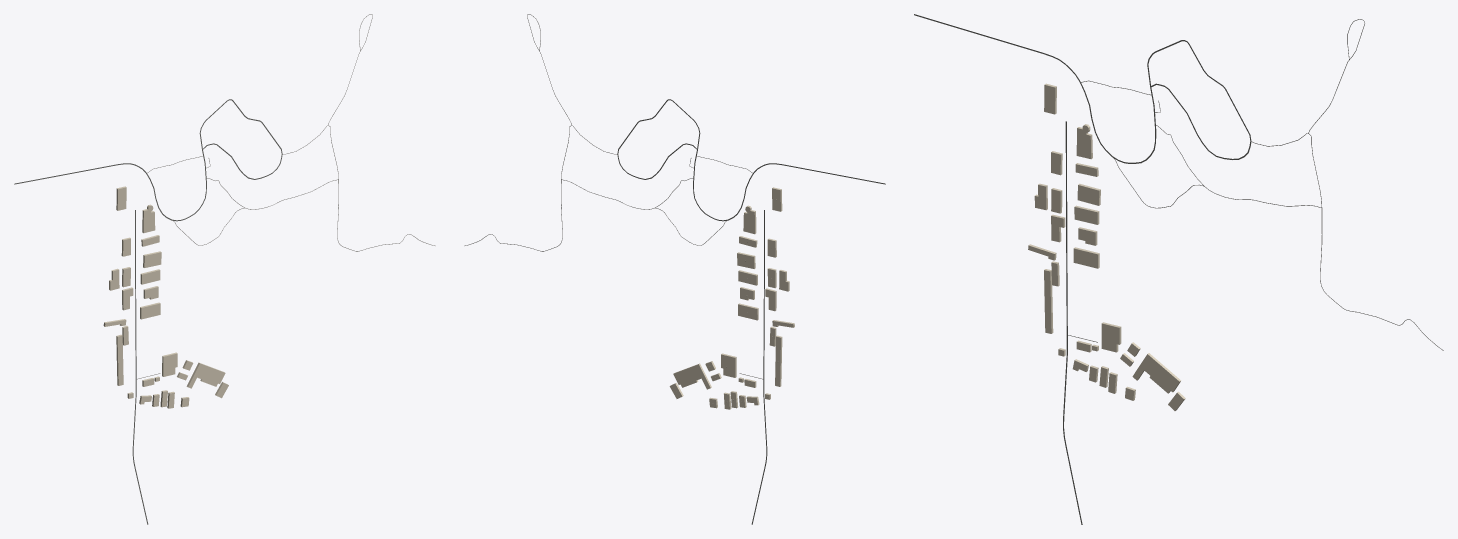
Rendered from historic-palestine-11_23_3534_3179.glb.
The picture shows the model from 3 angles, left to right: view 1: azimuth 30°, elevation 25°; view 2: azimuth 150°, elevation 25°; view 3: azimuth 330°, elevation 25°; orthographic projection. The views are drawn at different scales.
Parts seen in each view (by area): view 1: Road, Building_.002, Road שדות; view 2: Road, Building_.002, Road שדות; view 3: Building_.002, Road, Road שדות.
Boxes of the visible parts, <box> form: Road: <box>155,99,282,221</box>; Building_.002: <box>186,362,225,388</box>; Road שדות: <box>132,210,148,524</box>; Road: <box>617,99,744,221</box>; Building_.002: <box>673,363,711,389</box>; Road שדות: <box>751,210,767,524</box>; Building_.002: <box>1132,353,1181,393</box>; Road: <box>1091,40,1251,163</box>; Road שדות: <box>1063,121,1082,524</box>.
Bounding box in the file's own units: 1402 × 1451 × 8.7.
